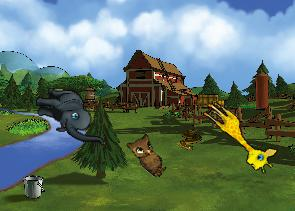elephant: (34, 87, 105, 145)
giraffe: (193, 97, 282, 177)
owl: (122, 128, 176, 179)
